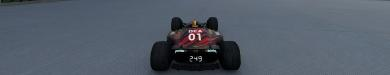Car: (149, 16, 241, 71)
